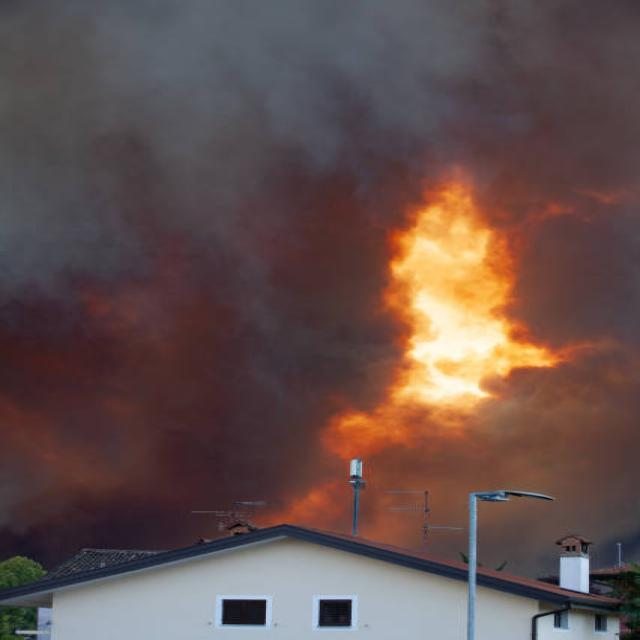Fire: (346, 172, 582, 441)
Smoke: (6, 0, 639, 475)
